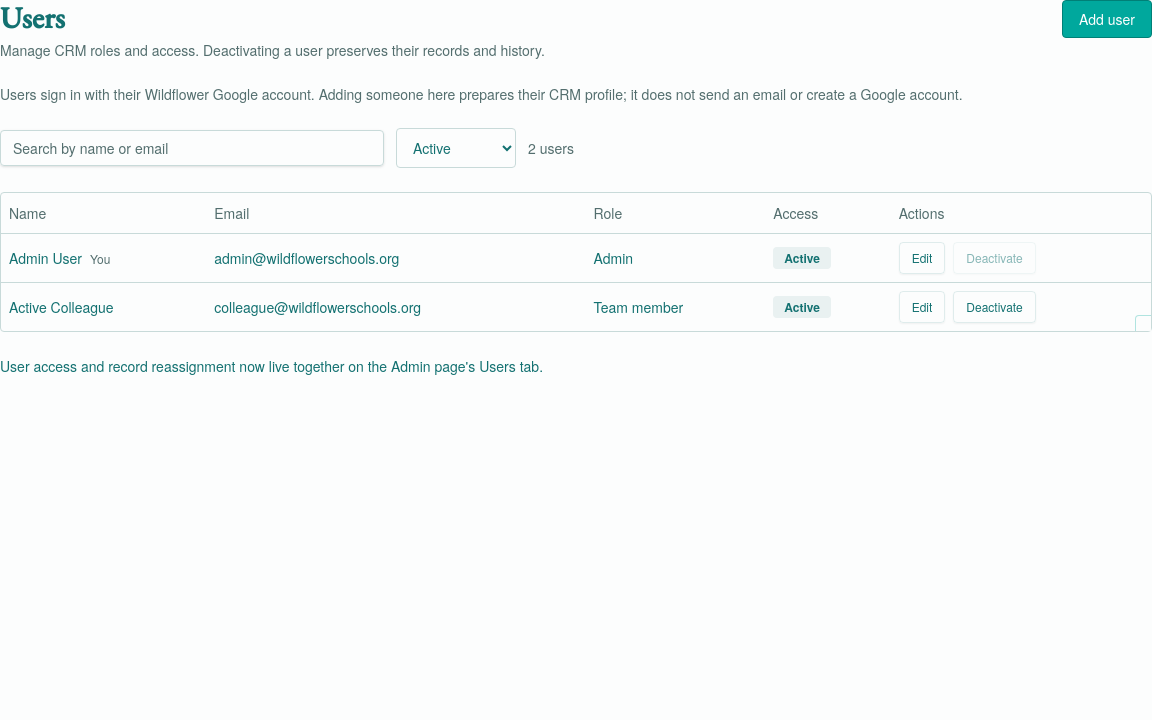
admin Users page › makes login email immutable and prevents changing your own role
The width and height of the screenshot is (1152, 720).
Click the button with aria-label "Edit admin@wildflowerschools.org": point(922, 258) x1=899 y1=242 x2=945 y2=274
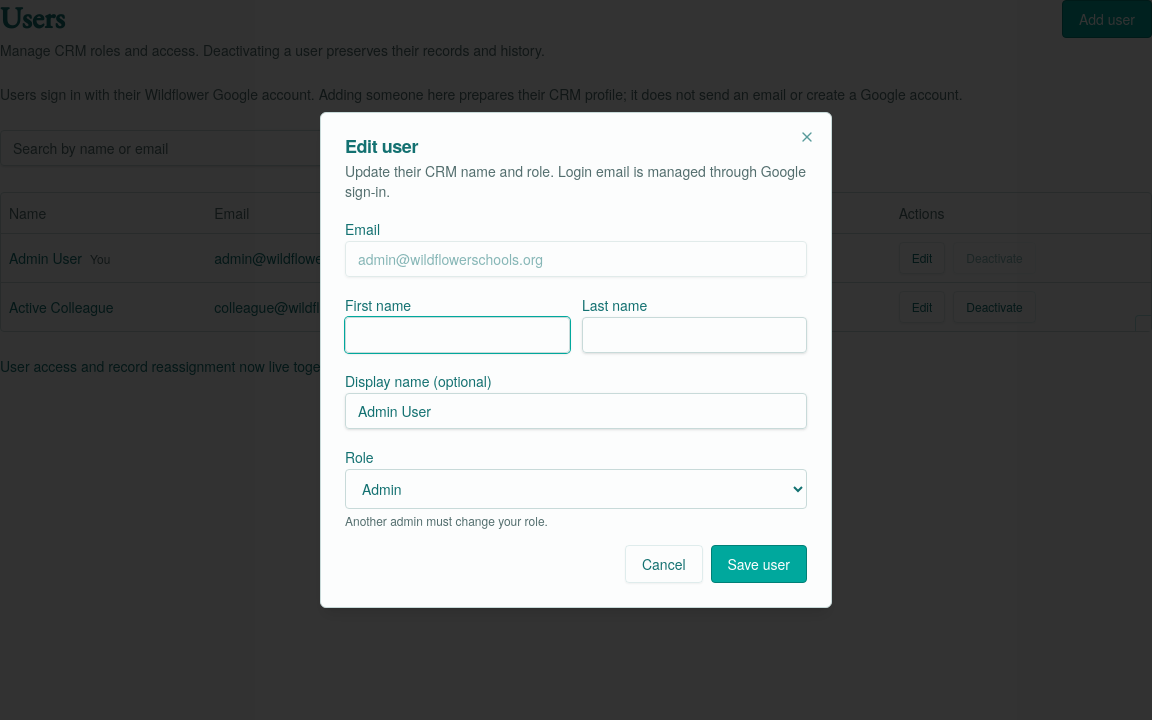
Now the field with id "user-email" is disabled, box x1=345 y1=241 x2=807 y2=277
Now the dropdown with id "user-role" is disabled, box x1=345 y1=469 x2=807 y2=509
